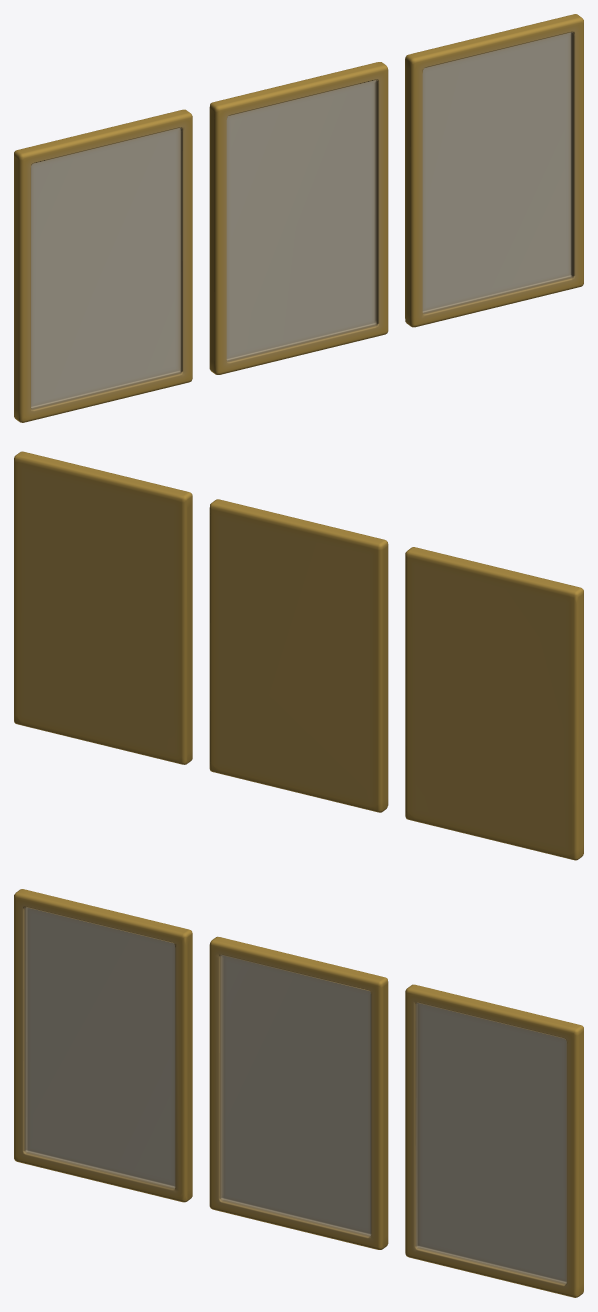
File: lumiere-poster-frame-set.glb
3 renders of one model, top to bottom at view 1: azimuth 30°, elevation 25°; view 2: azimuth 150°, elevation 25°; view 3: azimuth 330°, elevation 25°, orthographic.
Visible parts, largest first — view 1: lumiere-poster-frame-set_LOD0; view 2: lumiere-poster-frame-set_LOD0; view 3: lumiere-poster-frame-set_LOD0.
Part boxes in pixels (x1,y1,x2,y2): lumiere-poster-frame-set_LOD0: [14, 14, 583, 422]; lumiere-poster-frame-set_LOD0: [14, 451, 583, 860]; lumiere-poster-frame-set_LOD0: [14, 889, 583, 1297].
Size of what is drawn, in the model's own units: 2.02 by 0.92 by 0.052.
